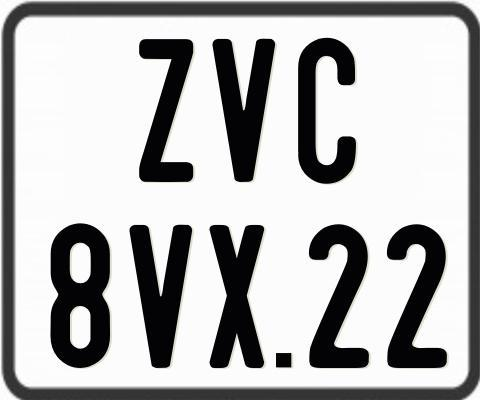2: (309, 222, 374, 370), (384, 221, 450, 365)
8: (50, 223, 116, 373)
C: (298, 35, 362, 185)
V: (130, 224, 197, 372), (212, 39, 276, 183)
X: (207, 224, 261, 373)
Z: (138, 38, 197, 182)
